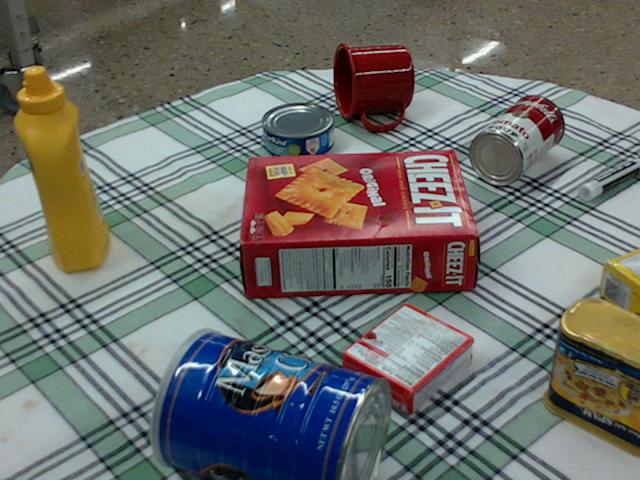cracker_box: (238, 151, 474, 298)
gelatin_box: (342, 303, 474, 410)
large_marker: (577, 157, 639, 198)
master_chef_can: (149, 331, 391, 479)
mug: (331, 42, 414, 129)
mustard_bottle: (14, 67, 109, 272)
potted_meat_can: (543, 295, 639, 452)
sugar_box: (601, 250, 639, 325)
tomato_soup_can: (468, 94, 563, 184)
tuna_fish_can: (260, 102, 333, 159)
